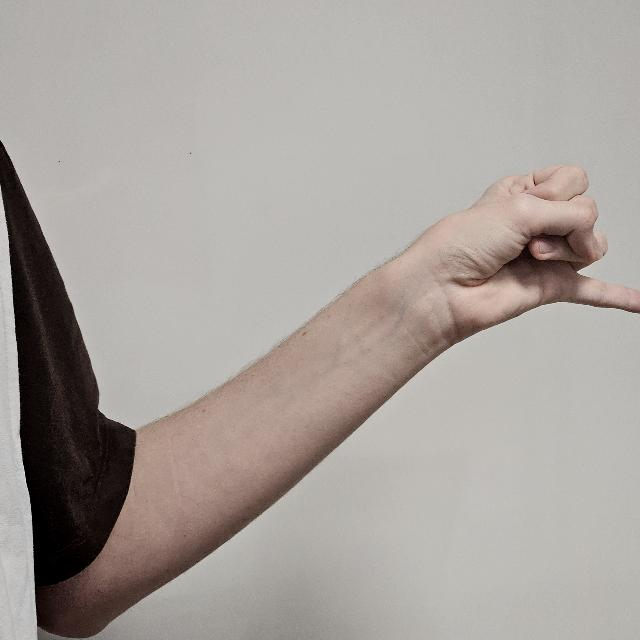Esquerda: (396, 163, 640, 327)
